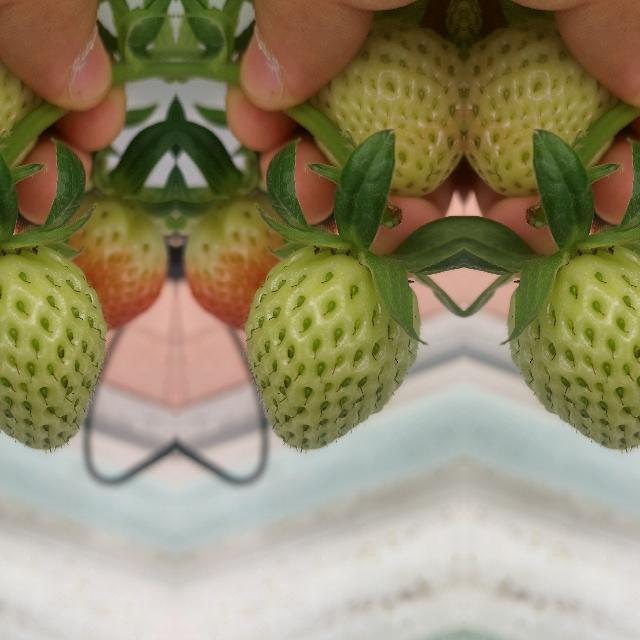Health_25: (243, 246, 419, 449), (307, 0, 463, 188), (463, 0, 619, 188), (507, 246, 640, 449), (0, 246, 107, 449), (0, 0, 43, 188)
